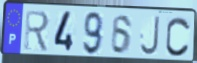4: (53, 10, 78, 56)
6: (109, 14, 134, 55)
9: (82, 11, 106, 57)
C: (164, 15, 192, 58)
J: (139, 15, 161, 58)
R: (23, 9, 51, 54)
